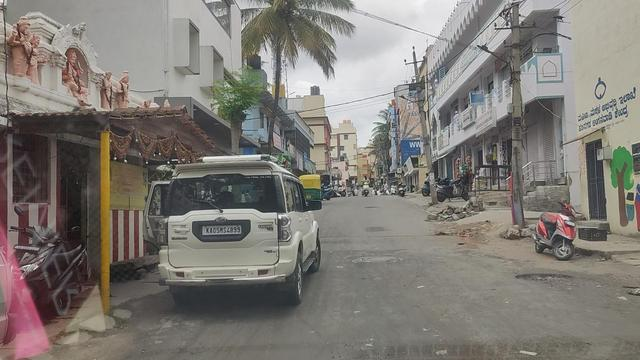RoadDamages: (349, 251, 407, 271), (513, 270, 584, 286)
